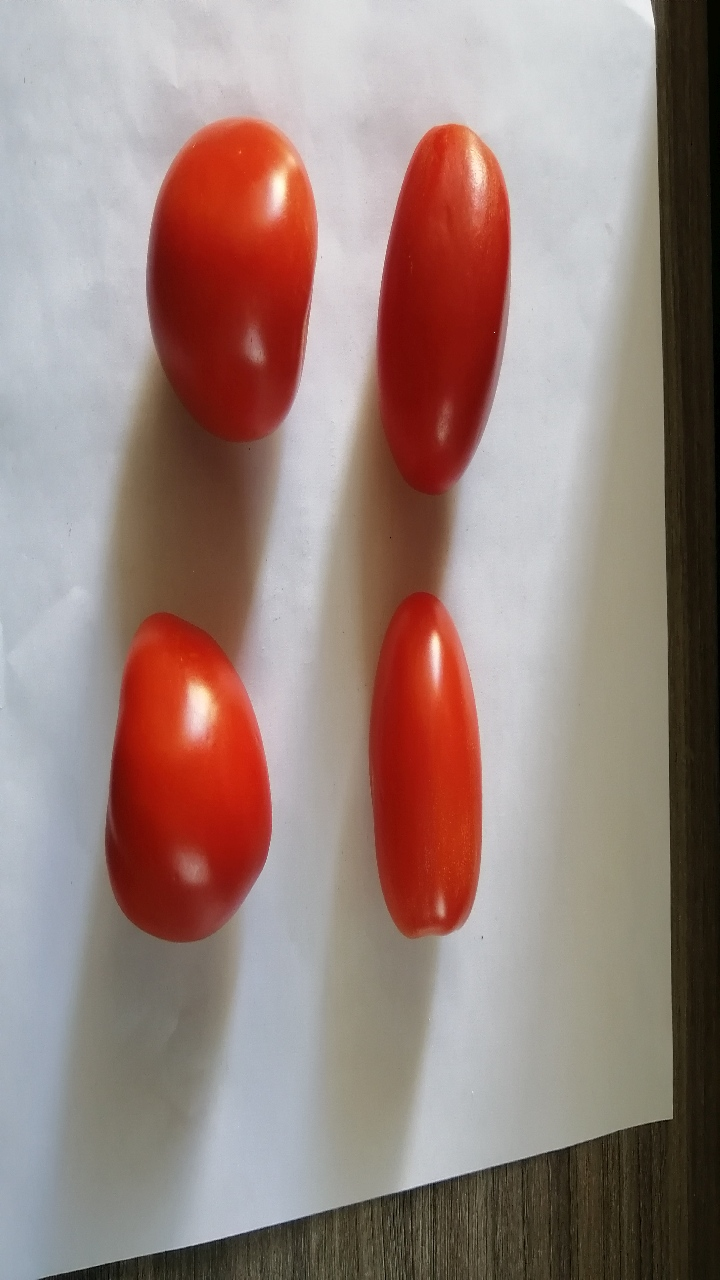tomateRojo: (344, 577, 563, 969), (111, 92, 337, 469), (81, 589, 298, 969), (368, 94, 518, 519)
